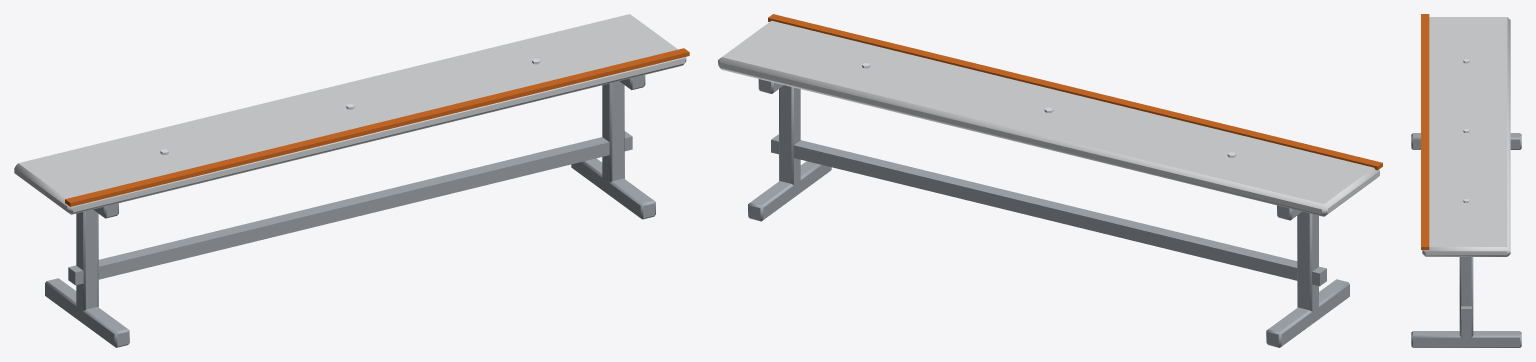
The model's file is bench_mess_bench.glb.
3 views of the same model, side by side, from view 1: azimuth 30°, elevation 25°; view 2: azimuth 150°, elevation 25°; view 3: azimuth 270°, elevation 25° (orthographic). The views are drawn at different scales.
Parts seen in each view (by area): view 1: bench_mess_bench; view 2: bench_mess_bench; view 3: bench_mess_bench.
Part boxes in pixels (bbox=[...]): bench_mess_bench: bbox=[14, 14, 689, 347]; bench_mess_bench: bbox=[718, 14, 1382, 347]; bench_mess_bench: bbox=[1411, 14, 1521, 347].
Size of the model in its own units: 2 by 0.467 by 0.4.
